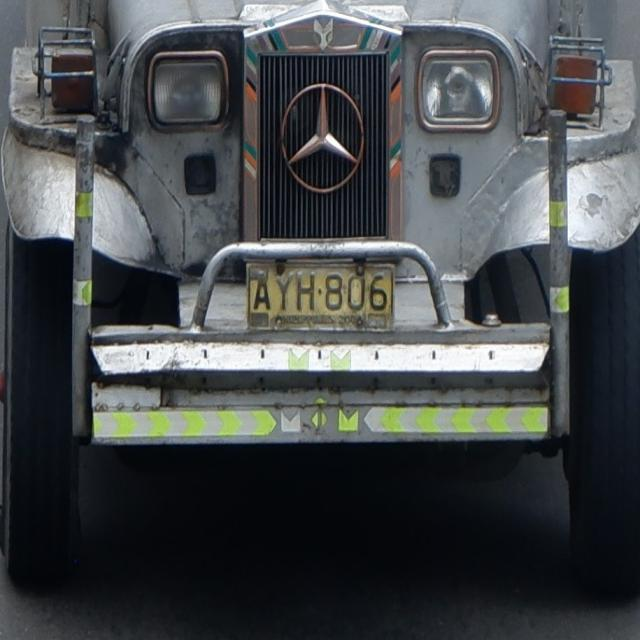LicensePlate: (239, 254, 411, 343)
